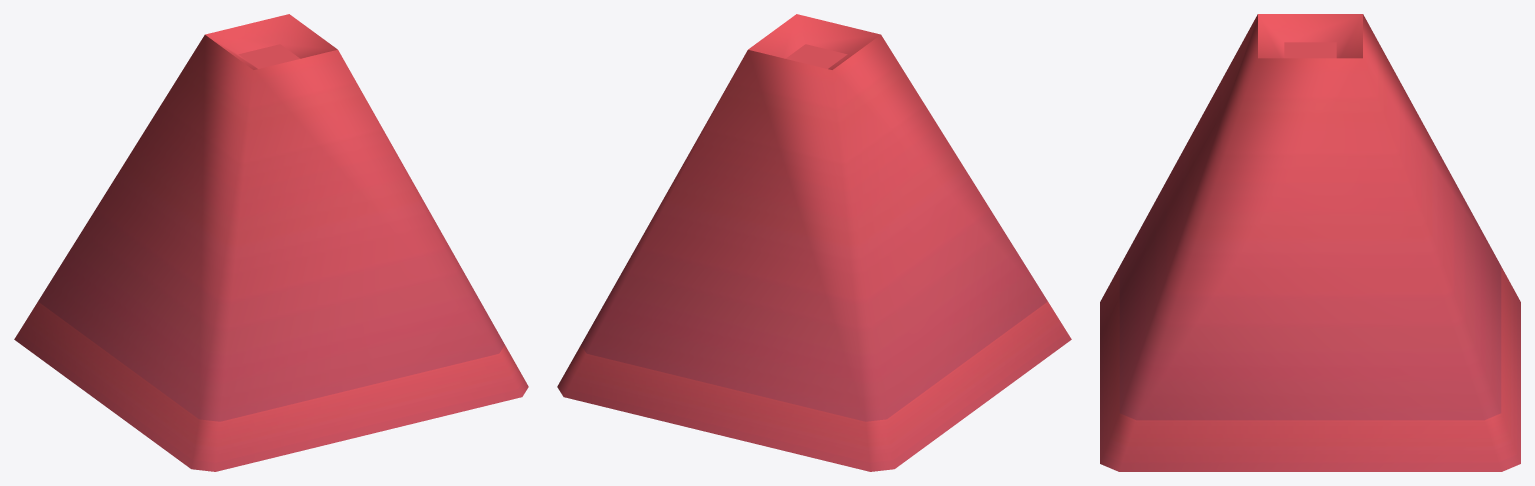
Rendered from roof-high-point.glb.
3 renders of one model, left to right at view 1: azimuth 30°, elevation 25°; view 2: azimuth 150°, elevation 25°; view 3: azimuth 270°, elevation 25°, orthographic. The views are drawn at different scales.
Visible parts, largest first — view 1: roof-high-point; view 2: roof-high-point; view 3: roof-high-point.
Part boxes in pixels (x1,y1,x2,y2): roof-high-point: [14, 14, 528, 471]; roof-high-point: [557, 14, 1071, 471]; roof-high-point: [1100, 14, 1520, 471].
Size of the model in its own units: 1.1 by 1 by 1.1.
1 material, 1 textured.
